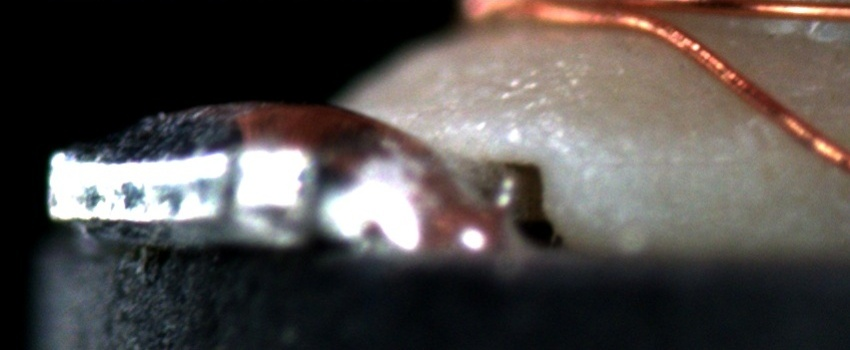DL: (588, 142, 749, 182)
